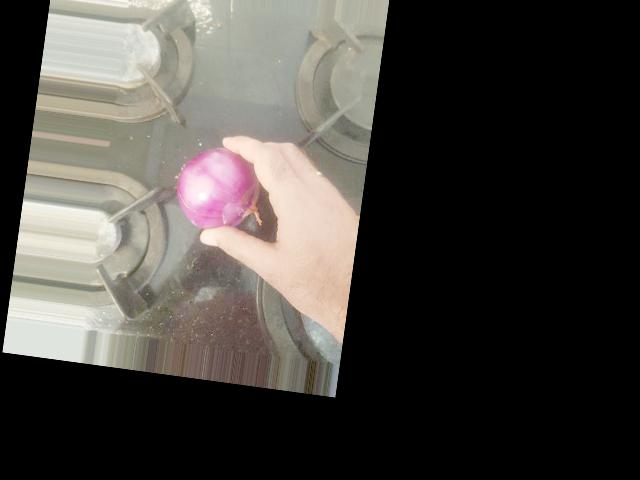onion: (172, 142, 262, 238)
